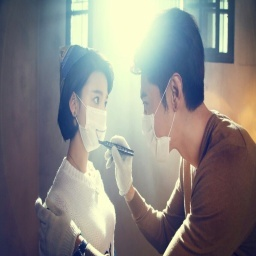correctlyWear: (137, 65, 183, 162), (67, 77, 109, 152)
